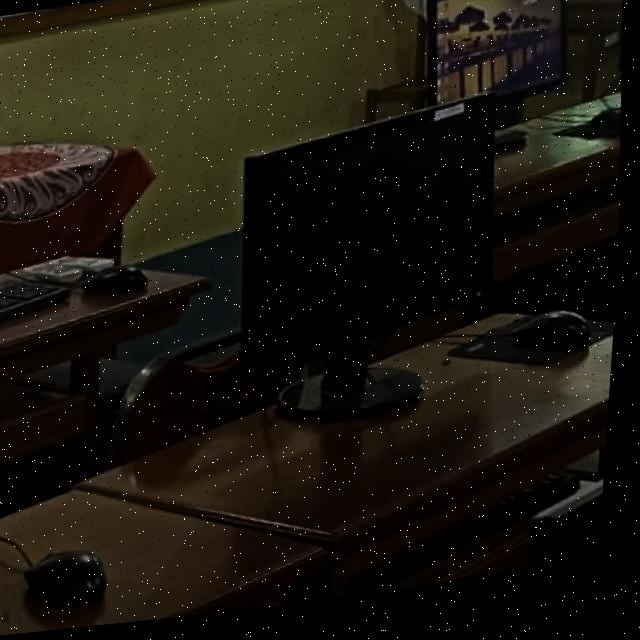offscreen: (247, 106, 495, 379)
onscreen: (428, 0, 567, 111)
